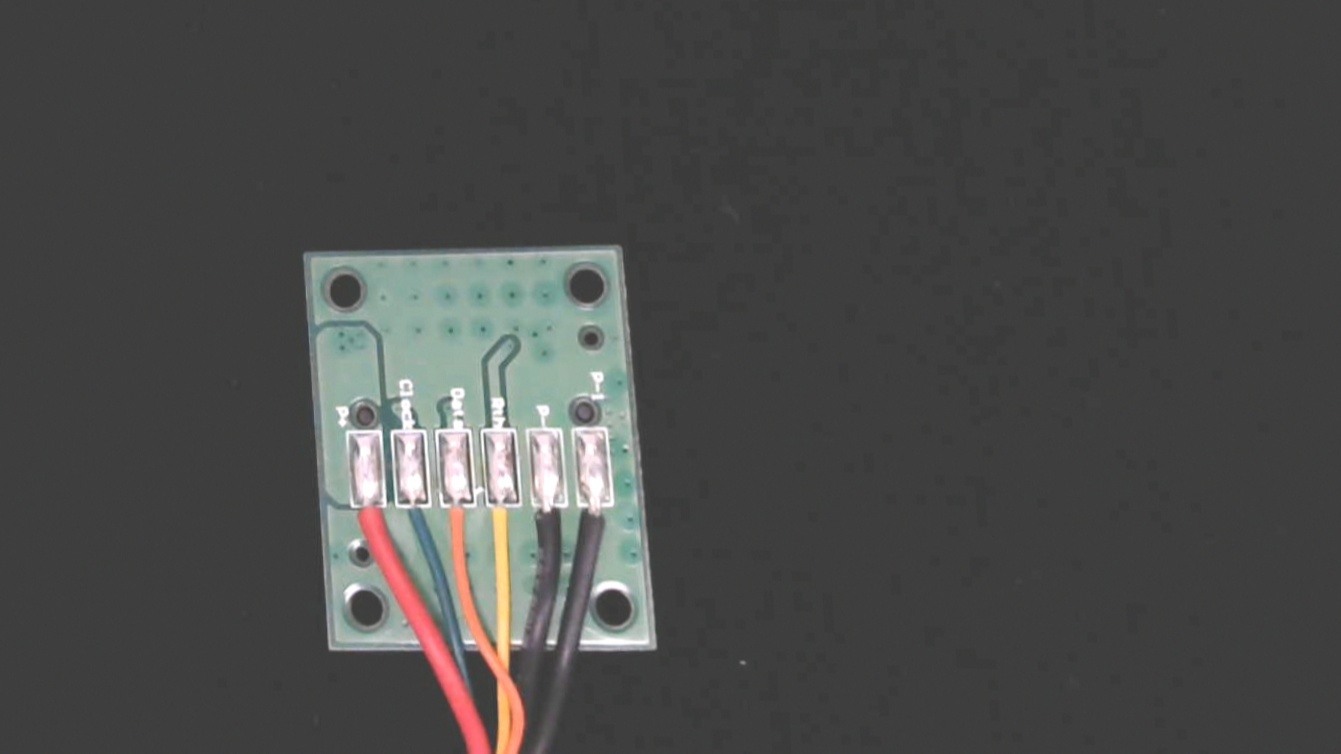Black: (532, 485, 571, 572)
Black1: (577, 488, 615, 561)
Green: (396, 483, 439, 570)
Orange: (441, 483, 483, 573)
Red: (350, 486, 394, 572)
Yellow: (487, 483, 524, 570)
